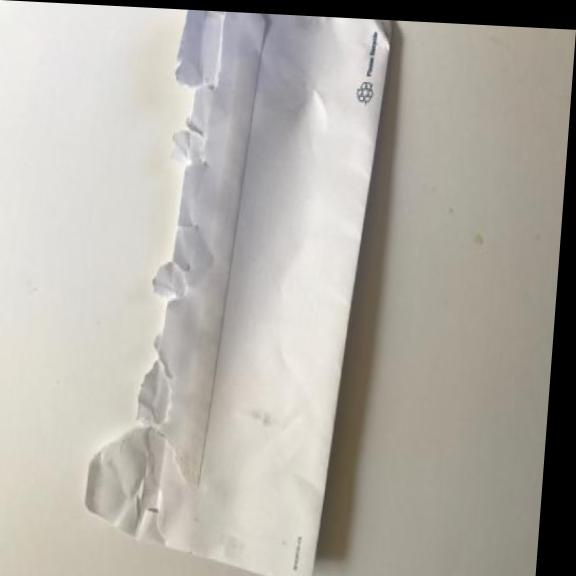Kertas: (49, 6, 430, 576)
